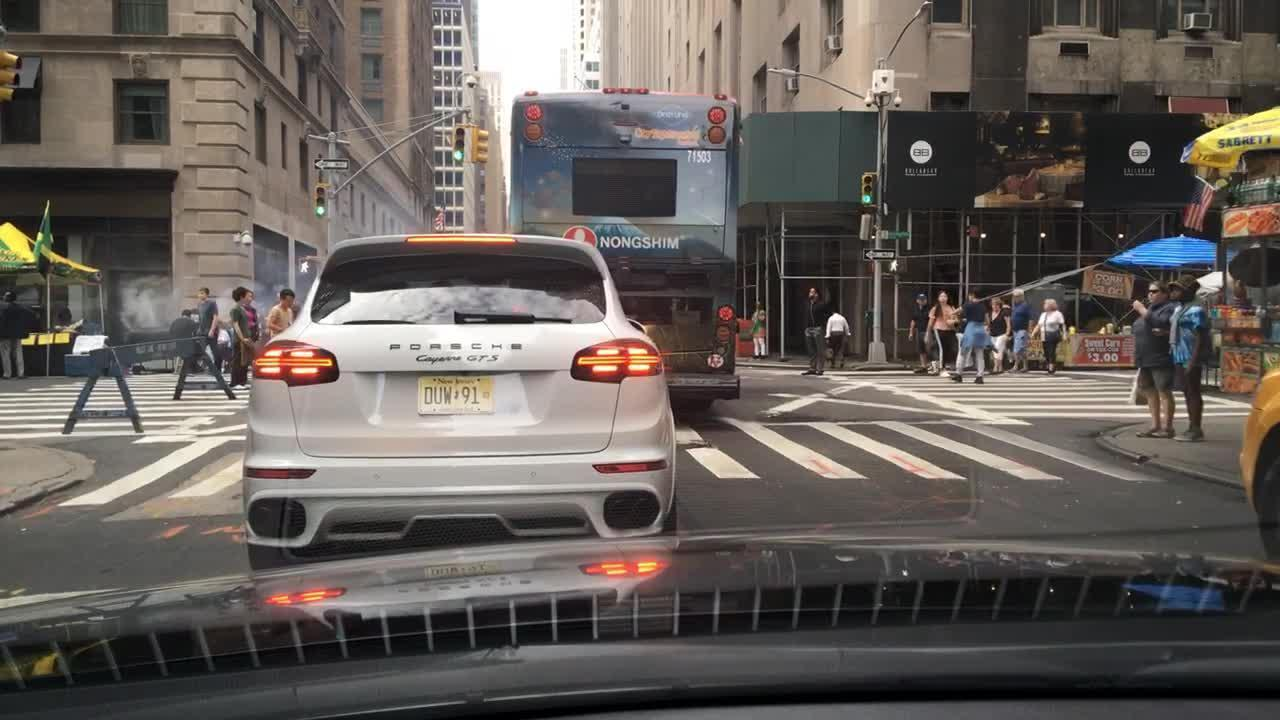porsche: (379, 337, 536, 356)
